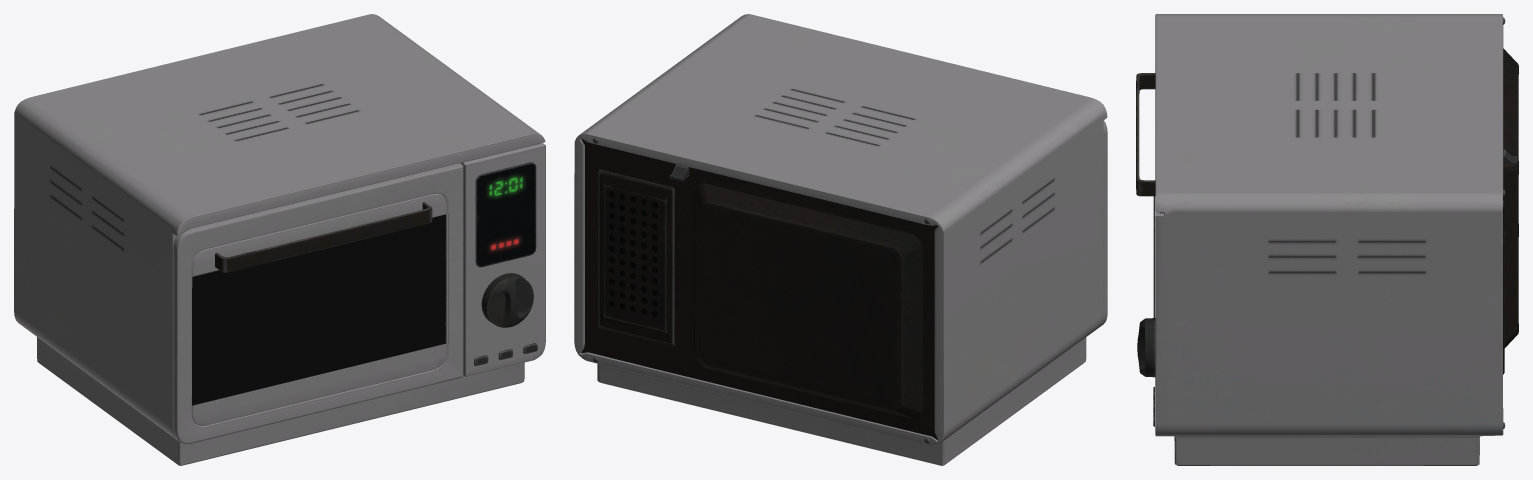
File: Microwave.fbx
The picture shows the model from 3 angles, left to right: view 1: azimuth 30°, elevation 25°; view 2: azimuth 150°, elevation 25°; view 3: azimuth 270°, elevation 25°; orthographic projection. The views are drawn at different scales.
Parts seen in each view (by area): view 1: node_id68; view 2: node_id68; view 3: node_id68.
Boxes of the visible parts, x1=… form: node_id68: x1=14, y1=14, x2=545, y2=465; node_id68: x1=574, y1=14, x2=1107, y2=465; node_id68: x1=1136, y1=14, x2=1518, y2=465.
Size of the model in its own units: 0.512 by 0.3395 by 0.4316.
Materials: 1 (1 with a texture image).
